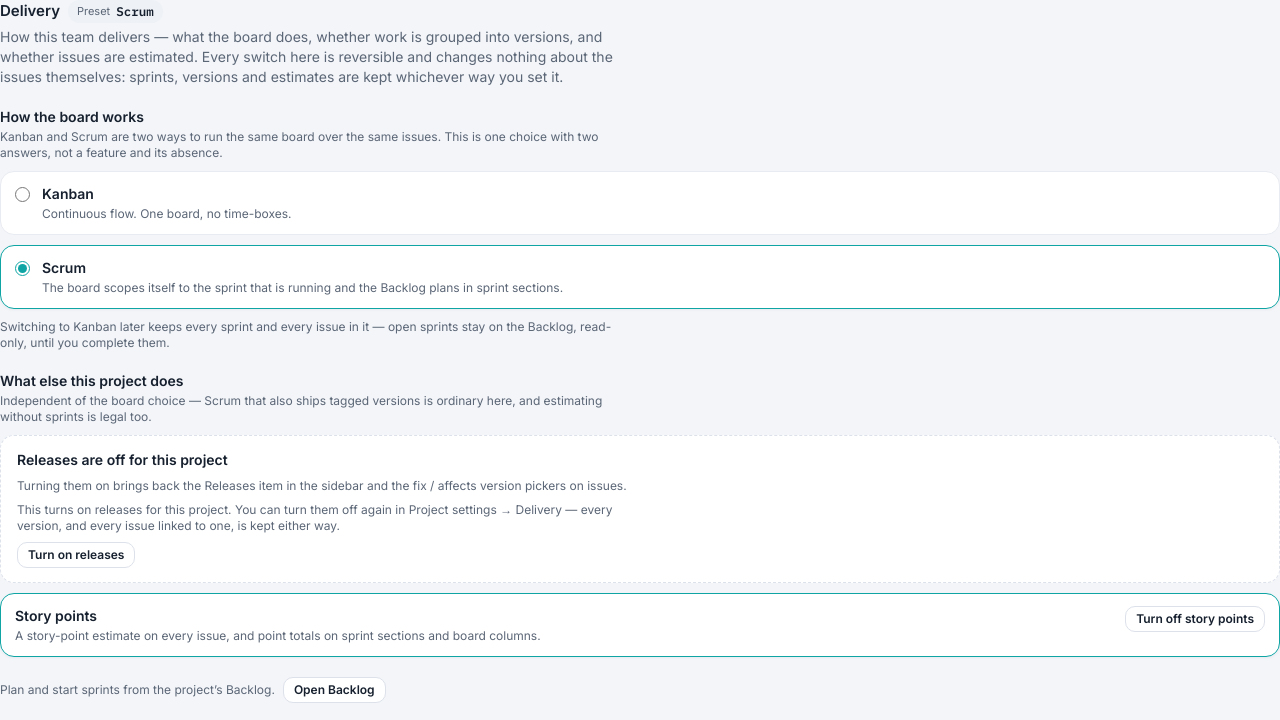
Test case: Delivery tab — switching away from Scrum (§13) › writes nothing when the confirmation is cancelled
Click the radio button labelled "Kanban Continuous flow. One board, no time-boxes." at (22, 194), box [15,187,30,202]
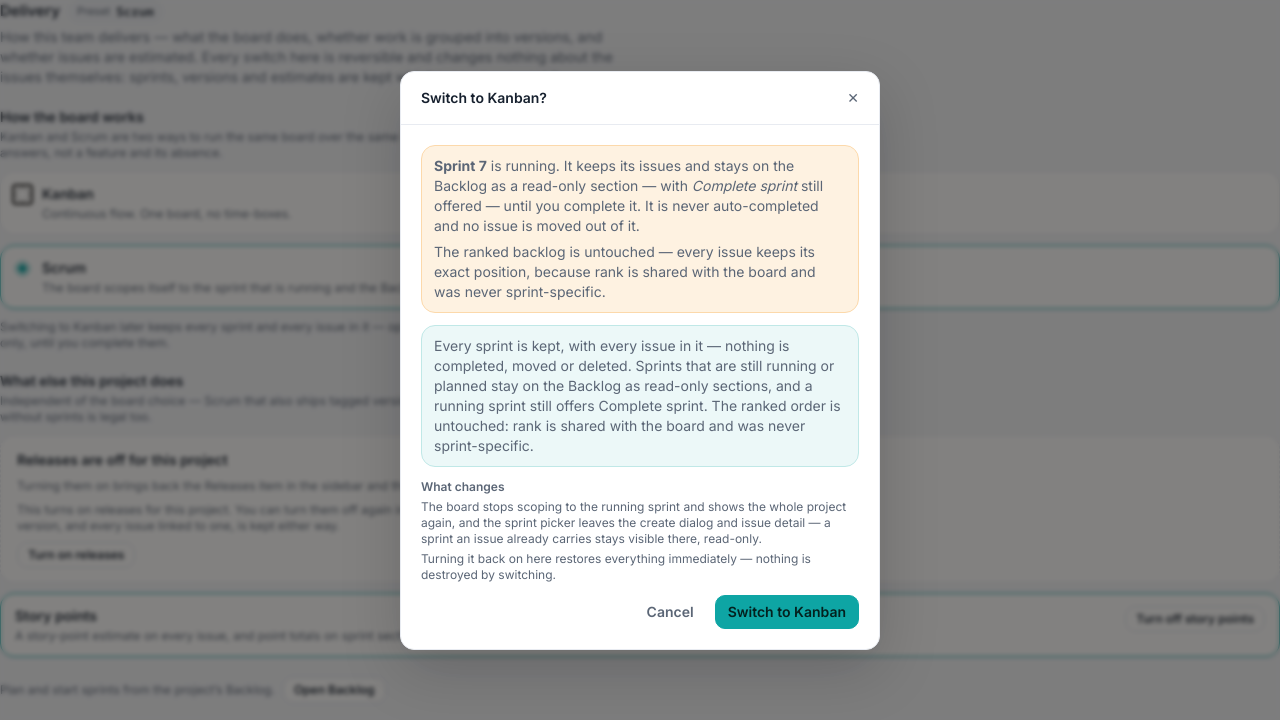
Click the button "Cancel" at (670, 612), box [634,594,707,628]
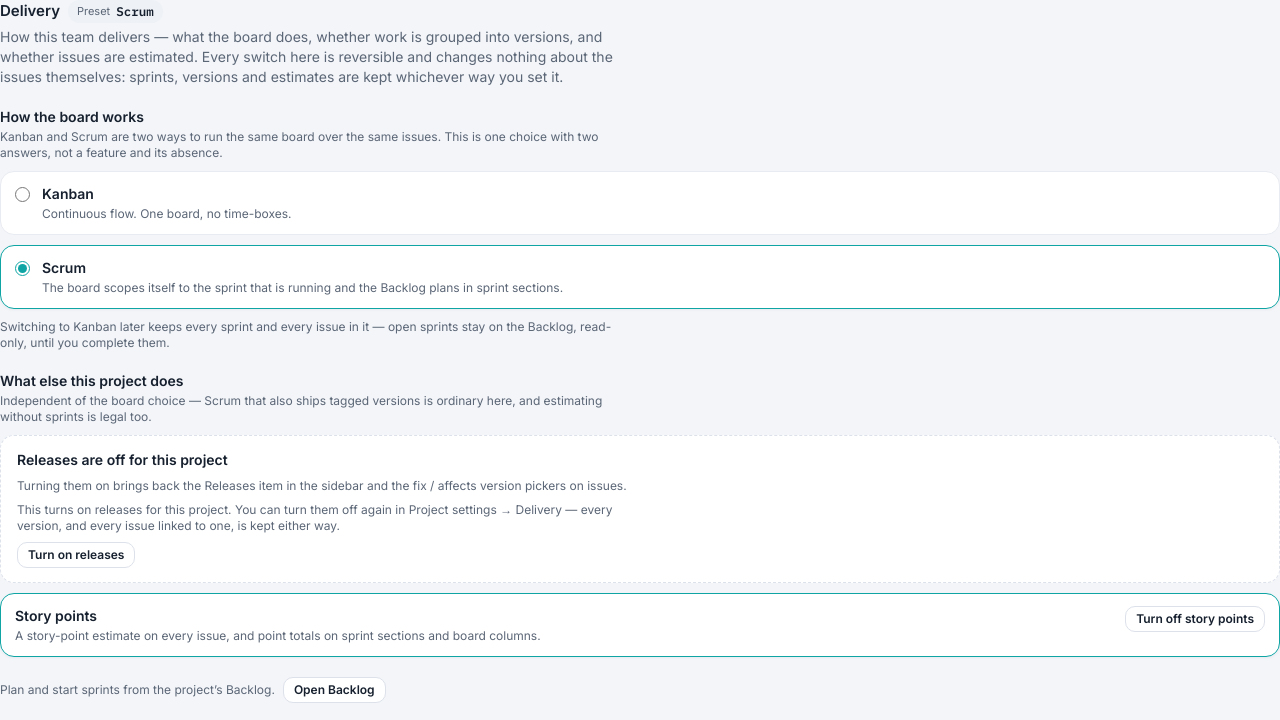
Result: the dialog is gone
